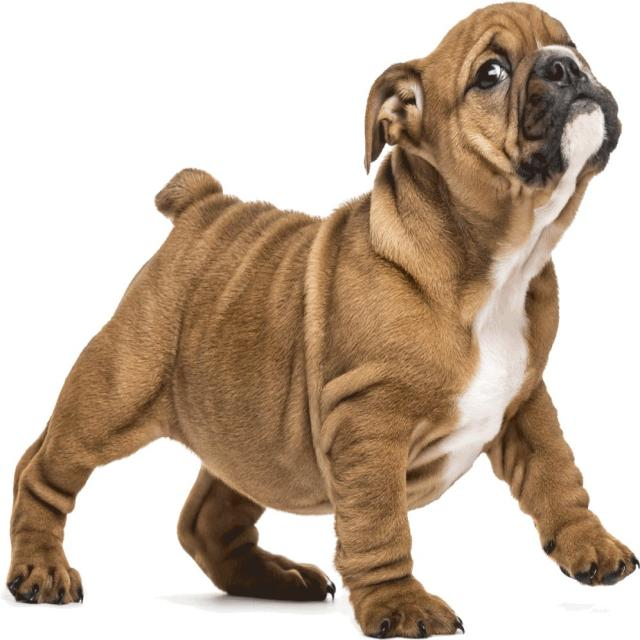dog: (367, 41, 633, 430)
